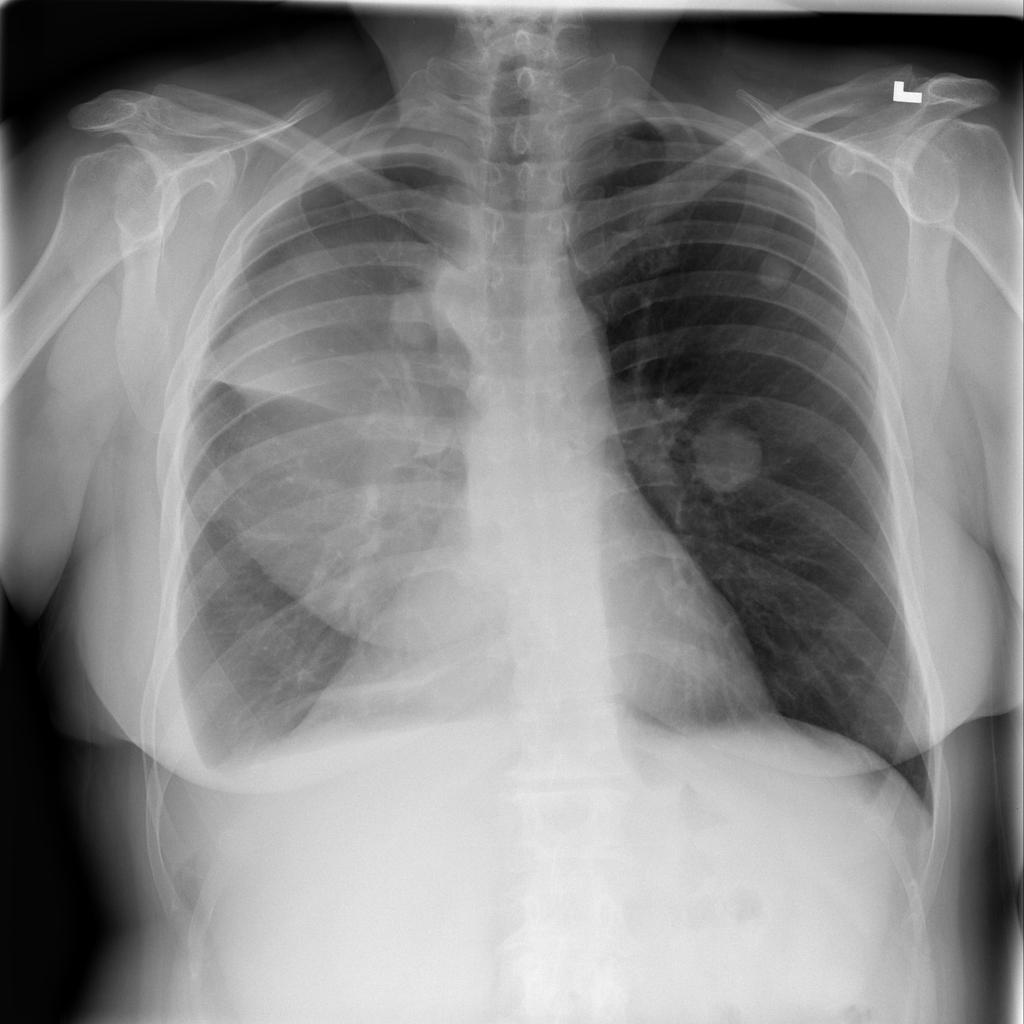nodule: (674, 398, 785, 514), (375, 280, 453, 359), (739, 235, 810, 304)
